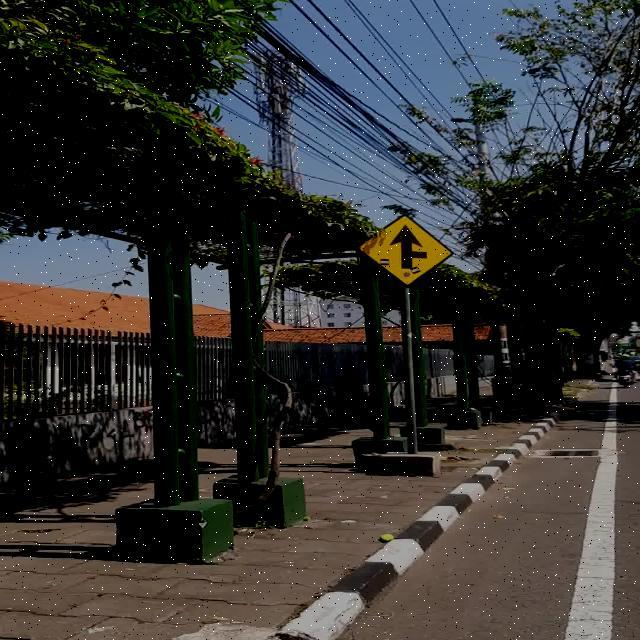Persimpangan 3 Prioritas Kanan: (358, 214, 453, 286)
